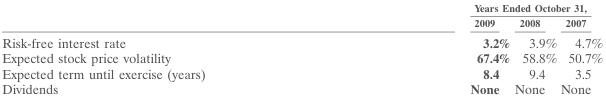table: (1, 0, 602, 96)
table column: (1, 0, 337, 96), (337, 0, 511, 96), (511, 0, 558, 96), (558, 0, 602, 96)
table column header: (1, 0, 602, 31)
table row: (1, 31, 602, 49), (1, 14, 602, 31), (1, 49, 602, 65), (1, 80, 602, 96), (1, 65, 602, 80), (1, 0, 602, 14)
table spanning cell: (337, 0, 602, 14)
